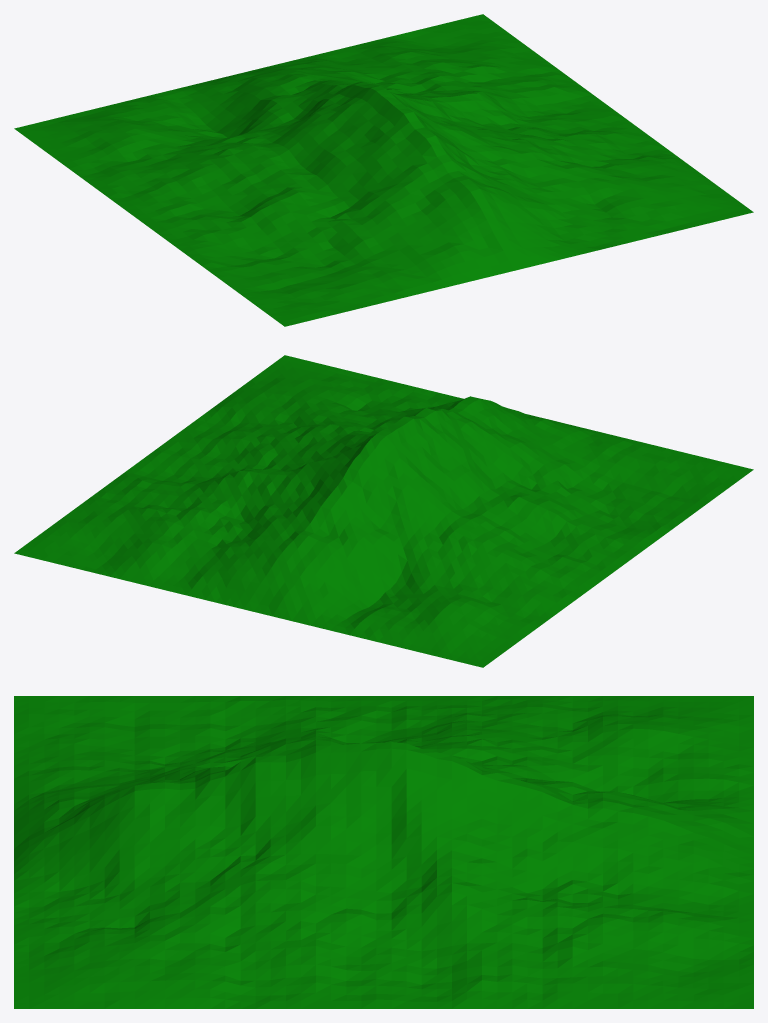
3 renders of one model, top to bottom at view 1: azimuth 30°, elevation 25°; view 2: azimuth 150°, elevation 25°; view 3: azimuth 270°, elevation 25°, orthographic. The views are drawn at different scales.
Visible parts, largest first — view 1: skpEAED_001; view 2: skpEAED_001; view 3: skpEAED_001.
Boxes of the visible parts, x1=… form: skpEAED_001: x1=14, y1=14, x2=753, y2=326; skpEAED_001: x1=14, y1=355, x2=753, y2=667; skpEAED_001: x1=14, y1=696, x2=753, y2=1008.
Bounding box in the file's own units: 4704 × 806 × 4704.
